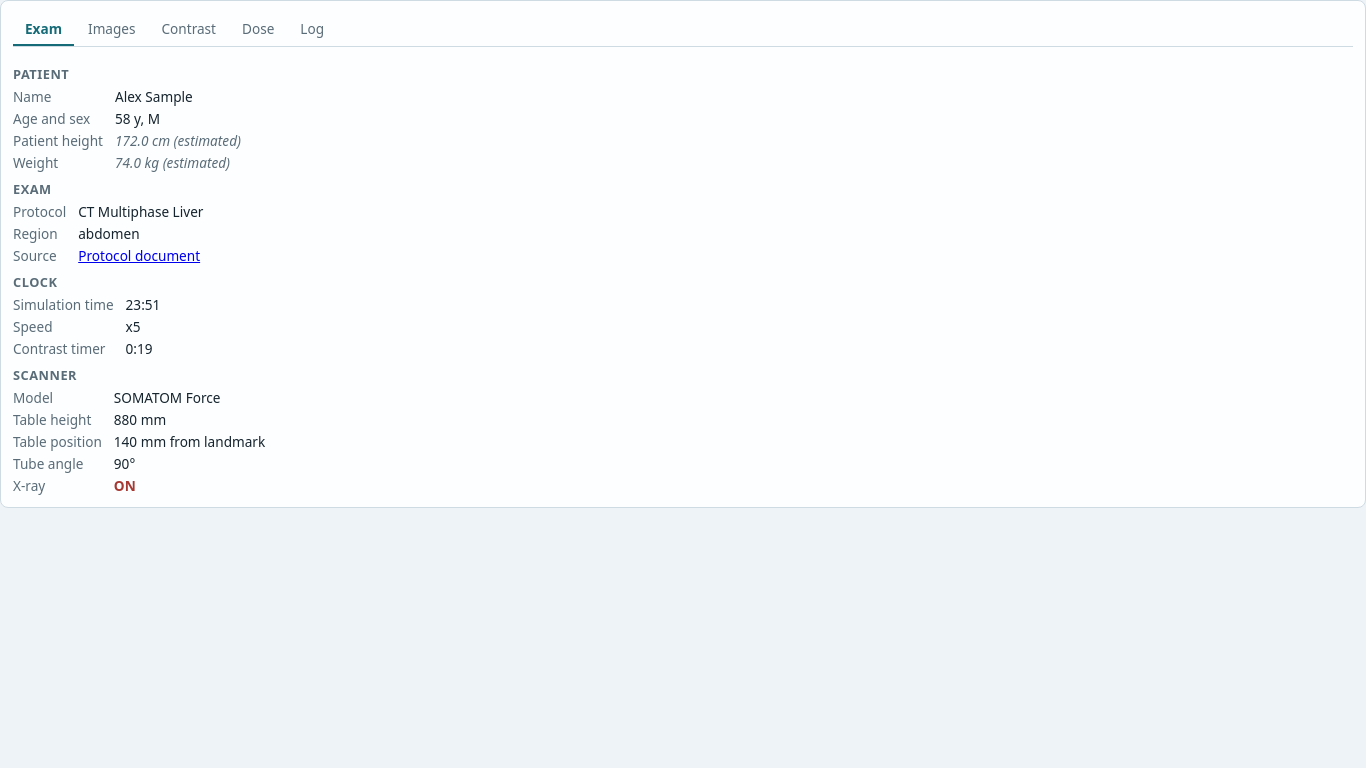
Test: ConsolePanel › a reconstruction that is not ready requests no image
Step 1. Click the tab "Images" → x=112, y=30, box [76,13,148,46]
(page scrolled)
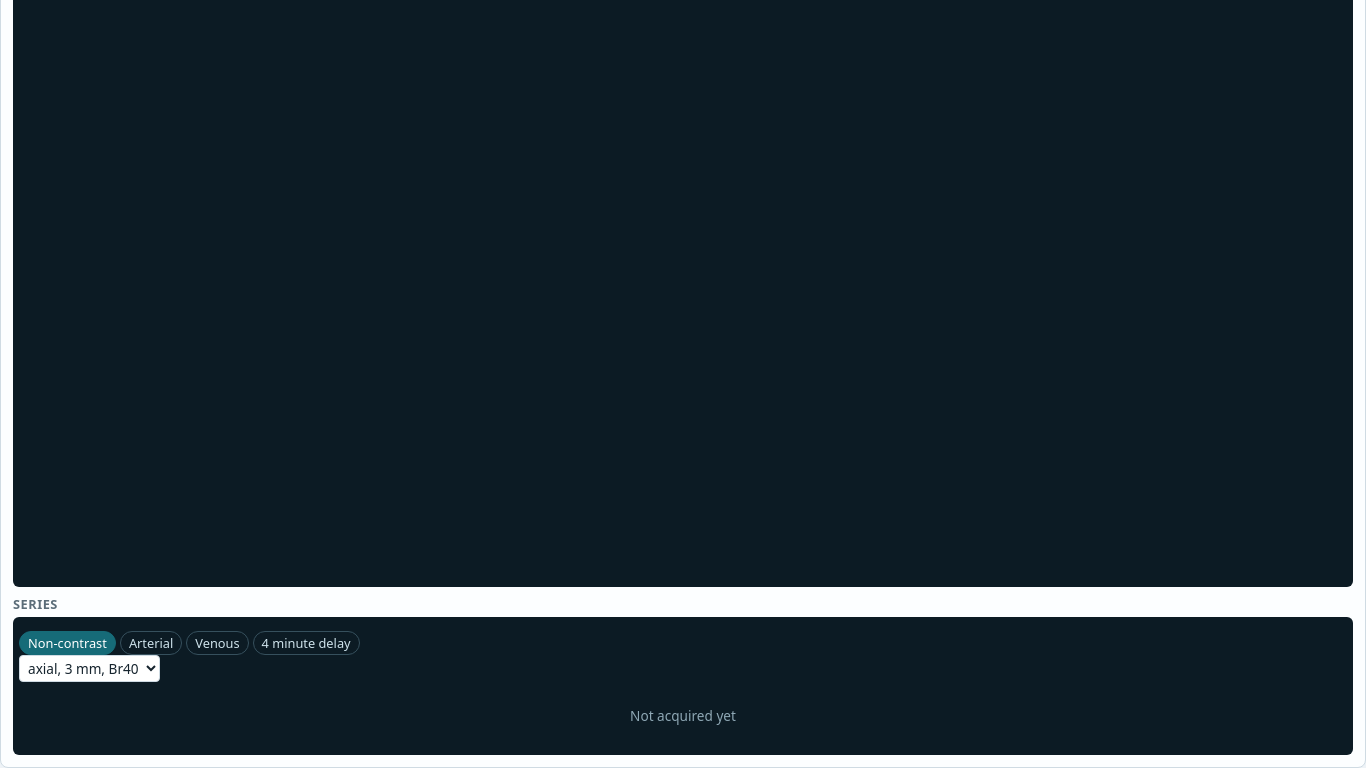
Expected: the text "Not acquired yet" is shown, [630,706,736,725]
